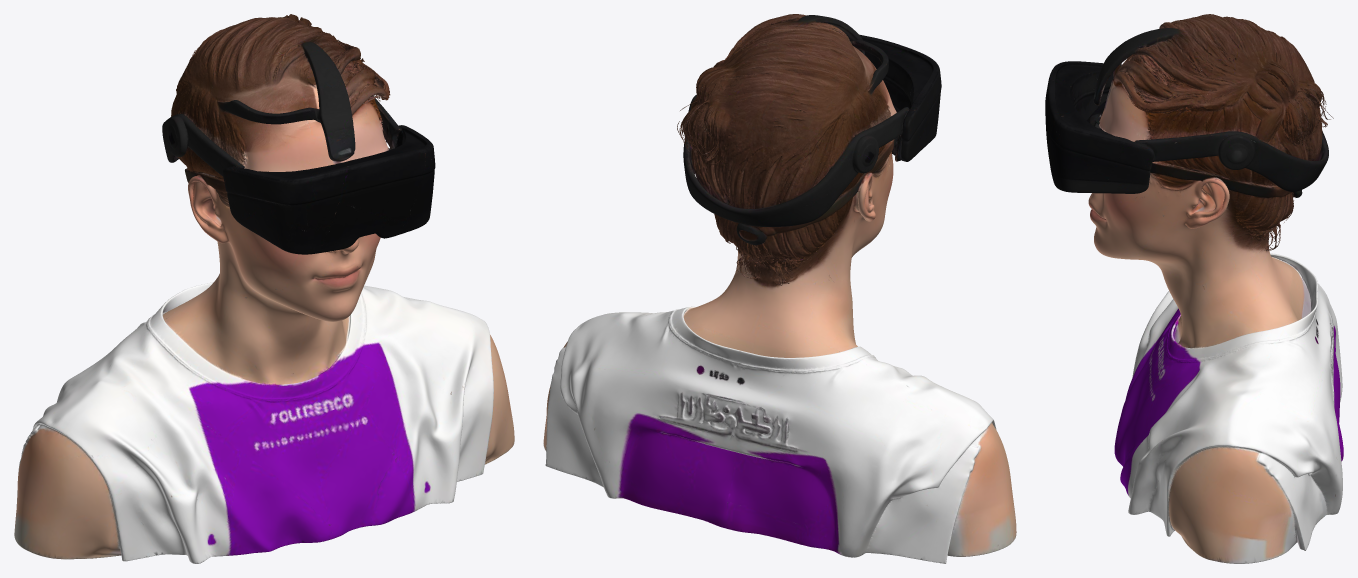
File: ar_glasses.glb
The picture shows the model from 3 angles, left to right: view 1: azimuth 30°, elevation 25°; view 2: azimuth 150°, elevation 25°; view 3: azimuth 270°, elevation 25°; orthographic projection. The views are drawn at different scales.
Bounding box in the file's own units: 1.9 × 1.76 × 1.1.
Materials: 1 (1 with a texture image).
